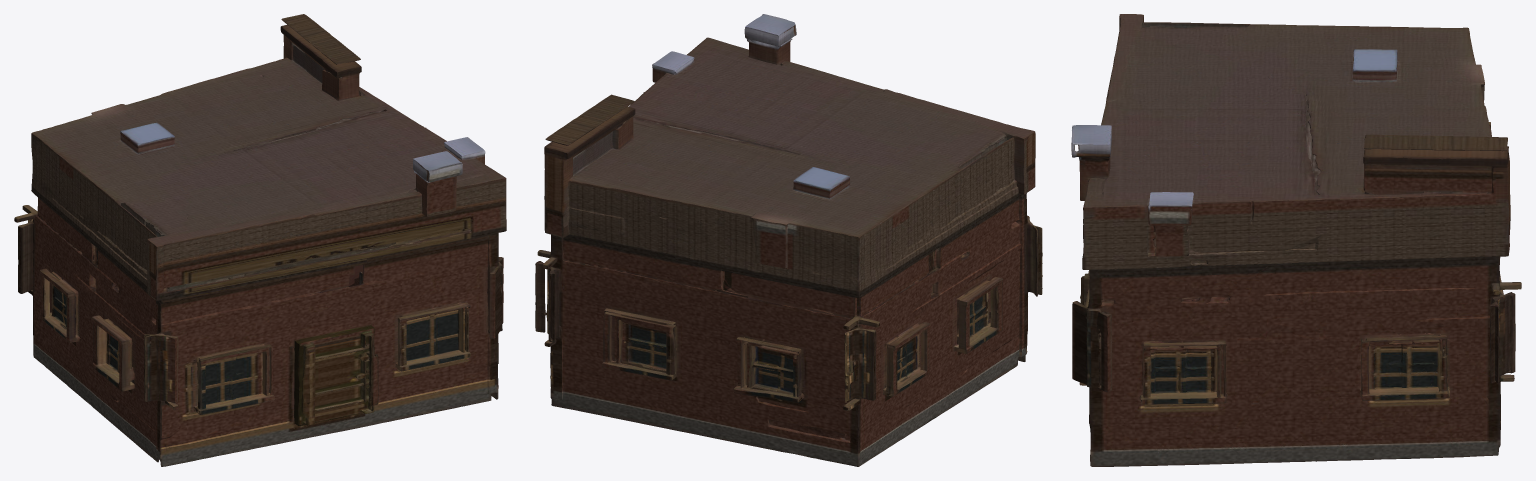
The model's file is scene-0-objects-5-glbData-6ce405ebdc19.glb.
3 renders of one model, left to right at view 1: azimuth 30°, elevation 25°; view 2: azimuth 150°, elevation 25°; view 3: azimuth 270°, elevation 25°, orthographic. The views are drawn at different scales.
Parts seen in each view (by area): view 1: Bank_Optimized; view 2: Bank_Optimized; view 3: Bank_Optimized.
Part boxes in pixels (x1,y1,x2,y2): Bank_Optimized: [14, 14, 506, 466]; Bank_Optimized: [535, 14, 1042, 466]; Bank_Optimized: [1071, 14, 1521, 466].
Bounding box in the file's own units: 9 × 6.4 × 8.49.
1 material, 1 textured.
